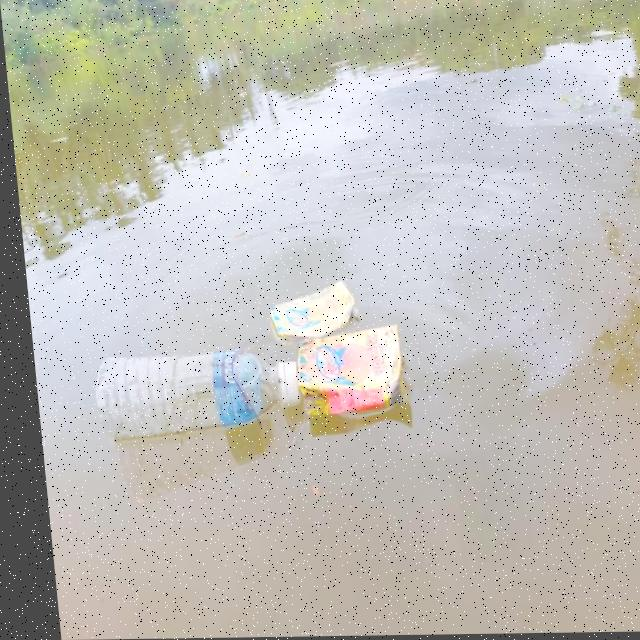paper: (264, 329, 418, 438), (247, 278, 366, 349)
waterbottle: (81, 330, 284, 463)
